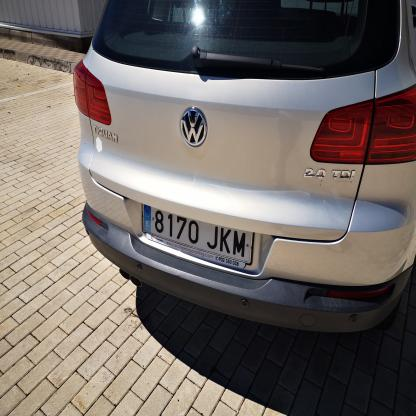patente: (140, 198, 254, 267)
